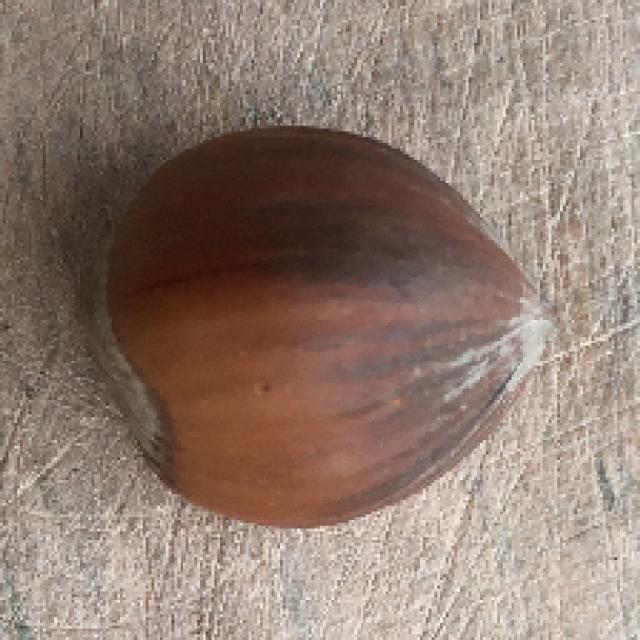damagedHazelnut: (92, 124, 544, 529)
